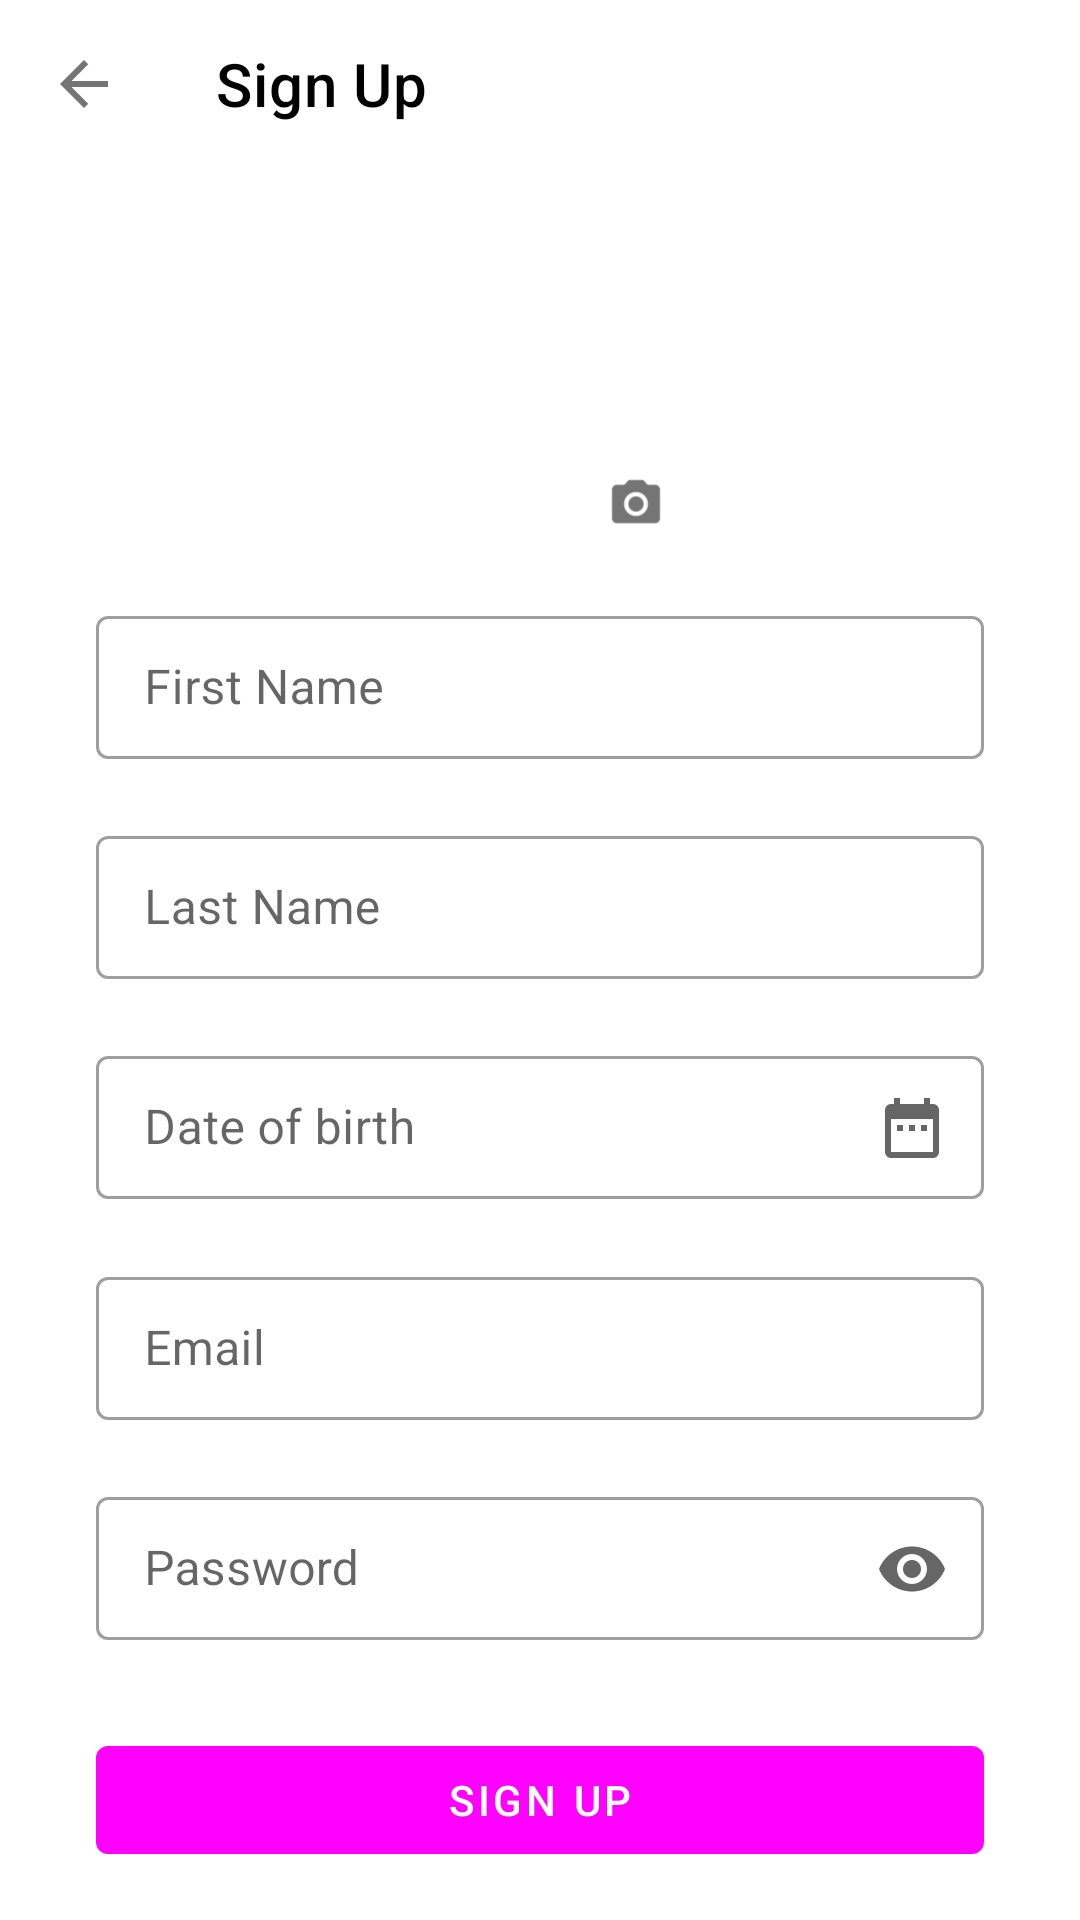

Named icons in this screenshot (1080px x 1920px) and their bounding boxes, [x1,y1,x2,y2]:
inset camera: [611,479,661,524]
